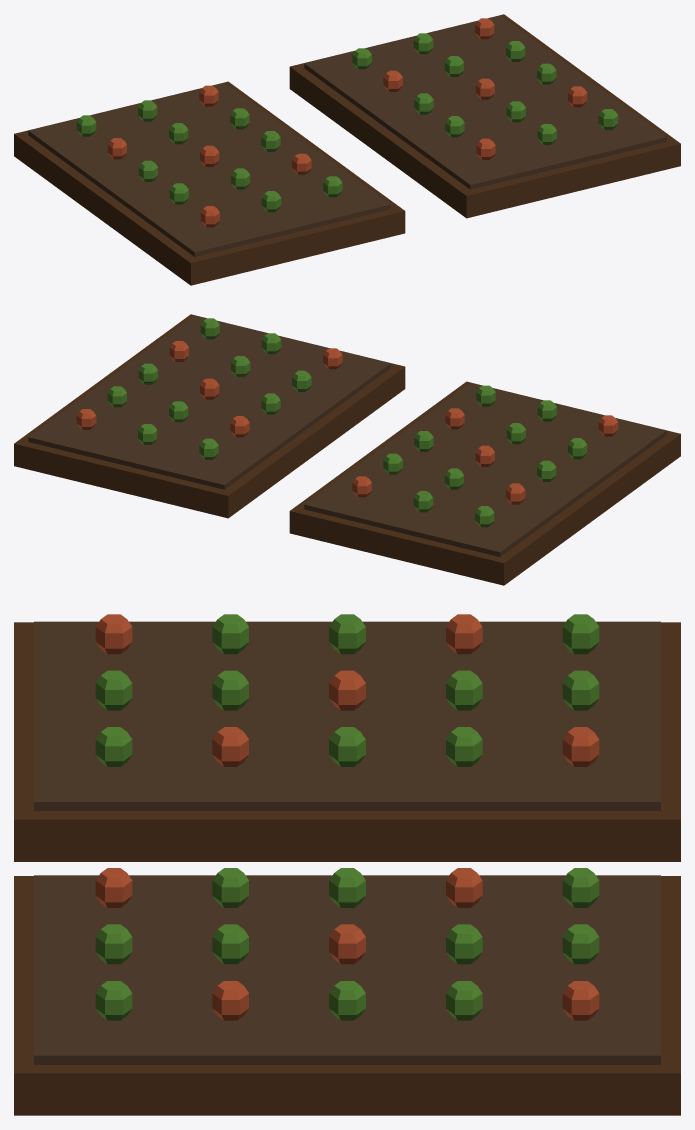
File: garden_broken.glb
3 views of the same model, one above another, from view 1: azimuth 30°, elevation 25°; view 2: azimuth 150°, elevation 25°; view 3: azimuth 270°, elevation 25° (orthographic). The views are drawn at different scales.
Parts seen in each view (by area): view 1: garden_piece3, garden_piece1, garden_piece4, garden_piece6, garden_piece5, garden_piece2, garden_piece0, garden_piece9, garden_piece10; view 2: garden_piece6, garden_piece3, garden_piece4, garden_piece5, garden_piece2, garden_piece1, garden_piece0, garden_piece7, garden_piece9, garden_piece10; view 3: garden_piece4, garden_piece5, garden_piece0, garden_piece3, garden_piece6, garden_piece1, garden_piece2, garden_piece9, garden_piece7, garden_piece8.
Boxes of the visible parts, x1,y1,x2,y2 form: garden_piece3: (56,149,327,285); garden_piece1: (344,117,645,237); garden_piece4: (352,14,610,122); garden_piece6: (14,85,269,186); garden_piece5: (372,86,680,177); garden_piece2: (289,41,408,174); garden_piece0: (195,81,383,252); garden_piece9: (267,131,347,237); garden_piece10: (289,61,323,91); garden_piece6: (323,445,552,585); garden_piece3: (449,399,680,554); garden_piece4: (14,363,299,459); garden_piece5: (121,314,334,436); garden_piece2: (125,424,347,518); garden_piece1: (226,323,523,428); garden_piece0: (289,417,502,541); garden_piece7: (14,455,143,493); garden_piece9: (409,385,543,434); garden_piece10: (212,471,261,516); garden_piece4: (277,868,680,1115); garden_piece5: (14,868,378,1115); garden_piece0: (135,727,680,861); garden_piece3: (14,614,481,756); garden_piece6: (301,614,680,788); garden_piece1: (14,762,277,1040); garden_piece2: (168,853,680,970); garden_piece9: (14,727,357,818); garden_piece7: (623,959,680,1115); garden_piece8: (46,842,173,861).
Bounding box in the file's own units: 3.2 × 0.29 × 2.
